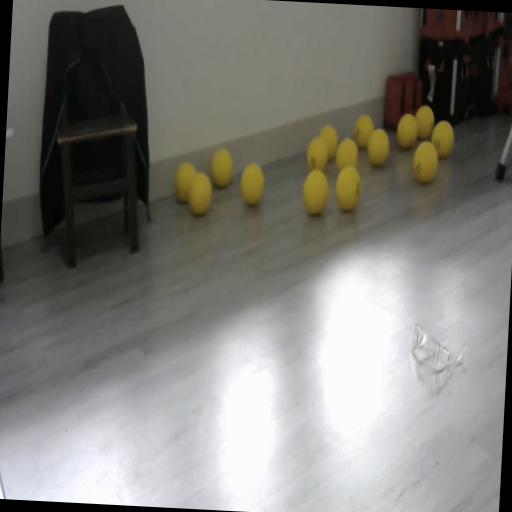FUEL: (301, 168, 330, 216), (334, 165, 362, 212), (238, 162, 266, 207), (412, 140, 440, 184), (209, 146, 235, 188), (430, 120, 456, 160), (174, 160, 198, 202), (366, 128, 390, 167), (335, 137, 359, 173), (352, 112, 374, 150), (396, 112, 418, 150), (413, 104, 435, 140), (318, 124, 339, 160)
